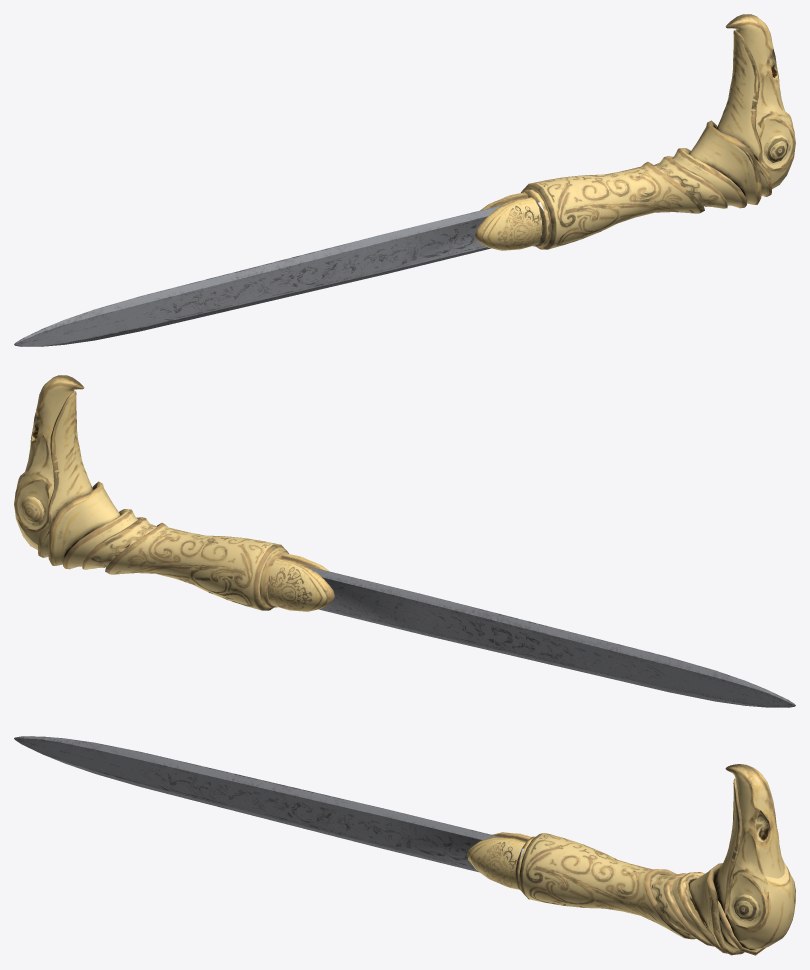
The model's file is Crane Sword 3D model.glb.
3 views of the same model, one above another, from view 1: azimuth 30°, elevation 25°; view 2: azimuth 150°, elevation 25°; view 3: azimuth 330°, elevation 25° (orthographic).
Parts seen in each view (by area): view 1: 2-__2-_2-__0, 0-__0-_0-__0, 8-__8-_8-__0, 10-__10-_10-__0, 4-__4-_4-__0, 14-__14-_14-__0, 18-__18-_18-__0, 16-__16-_16-__0; view 2: 2-__2-_2-__0, 0-__0-_0-__0, 8-__8-_8-__0, 10-__10-_10-__0, 4-__4-_4-__0, 14-__14-_14-__0, 18-__18-_18-__0, 16-__16-_16-__0; view 3: 2-__2-_2-__0, 8-__8-_8-__0, 0-__0-_0-__0, 4-__4-_4-__0, 14-__14-_14-__0, 10-__10-_10-__0, 16-__16-_16-__0, 18-__18-_18-__0, 12-__12-_12-__0.
Boxes of the visible parts, x1,y1,x2,y2 form: 2-__2-_2-__0: (14,204,504,346); 0-__0-_0-__0: (522,161,704,249); 8-__8-_8-__0: (726,14,795,188); 10-__10-_10-__0: (716,30,762,163); 4-__4-_4-__0: (475,192,542,250); 14-__14-_14-__0: (689,120,761,204); 18-__18-_18-__0: (653,156,727,208); 16-__16-_16-__0: (672,148,746,208); 2-__2-_2-__0: (305,565,795,707); 0-__0-_0-__0: (105,522,287,610); 8-__8-_8-__0: (14,375,84,549); 10-__10-_10-__0: (47,391,93,524); 4-__4-_4-__0: (267,555,334,611); 14-__14-_14-__0: (48,481,120,565); 18-__18-_18-__0: (82,517,156,569); 16-__16-_16-__0: (63,509,137,569); 2-__2-_2-__0: (14,736,501,872); 8-__8-_8-__0: (725,764,795,949); 0-__0-_0-__0: (520,833,696,939); 4-__4-_4-__0: (467,832,531,889); 14-__14-_14-__0: (689,863,744,955); 10-__10-_10-__0: (713,778,742,915); 16-__16-_16-__0: (672,872,728,953); 18-__18-_18-__0: (651,873,714,946); 12-__12-_12-__0: (718,901,766,955).
Bounding box in the file's own units: 2 × 0.4637 × 0.199.
Materials: 20 (16 with a texture image).
